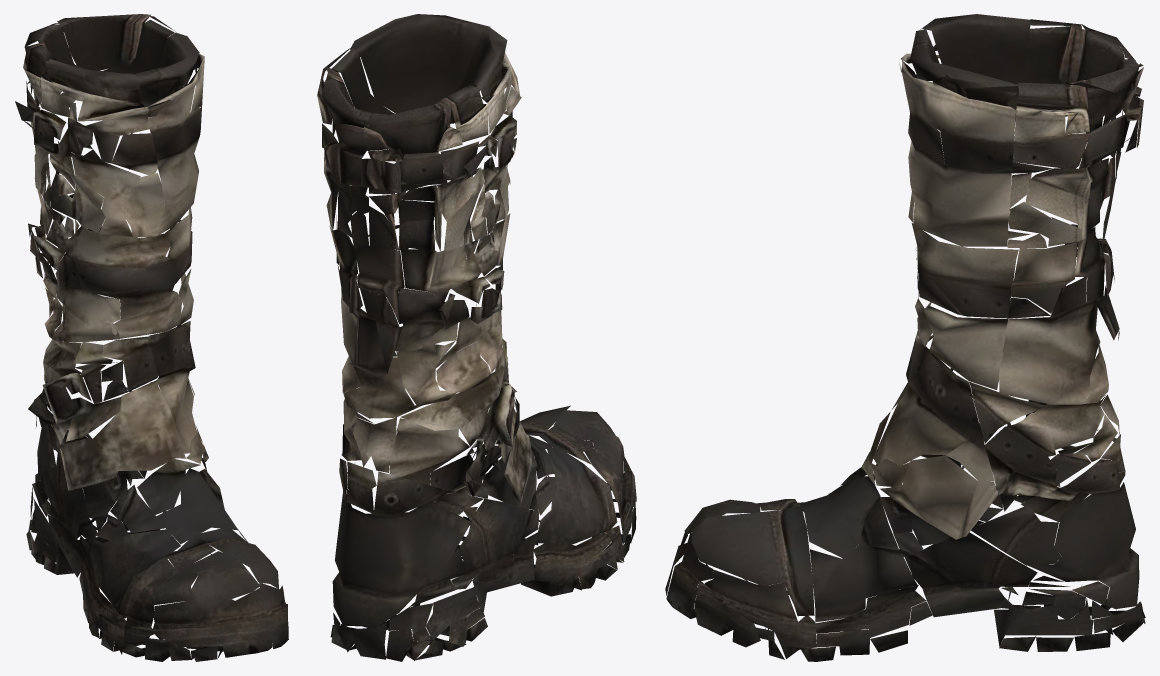
Rendered from a_ward_boots.glb.
The picture shows the model from 3 angles, left to right: view 1: azimuth 30°, elevation 25°; view 2: azimuth 150°, elevation 25°; view 3: azimuth 270°, elevation 25°; orthographic projection. The views are drawn at different scales.
Parts seen in each view (by area): view 1: tripo_node_66716165-d177-4658-8bea-9631f10389fa; view 2: tripo_node_66716165-d177-4658-8bea-9631f10389fa; view 3: tripo_node_66716165-d177-4658-8bea-9631f10389fa.
Boxes of the visible parts, bbox=[...] form: tripo_node_66716165-d177-4658-8bea-9631f10389fa: bbox=[15, 14, 288, 661]; tripo_node_66716165-d177-4658-8bea-9631f10389fa: bbox=[317, 14, 636, 661]; tripo_node_66716165-d177-4658-8bea-9631f10389fa: bbox=[665, 14, 1145, 661].
Bounding box in the file's own units: 0.1679 × 0.4994 × 0.3685.
1 material, 1 textured.
